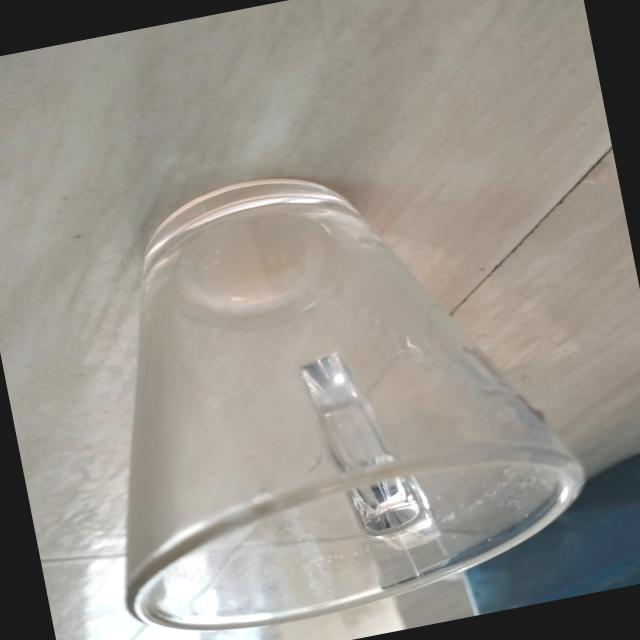glass-VX4N: (40, 121, 607, 640)
